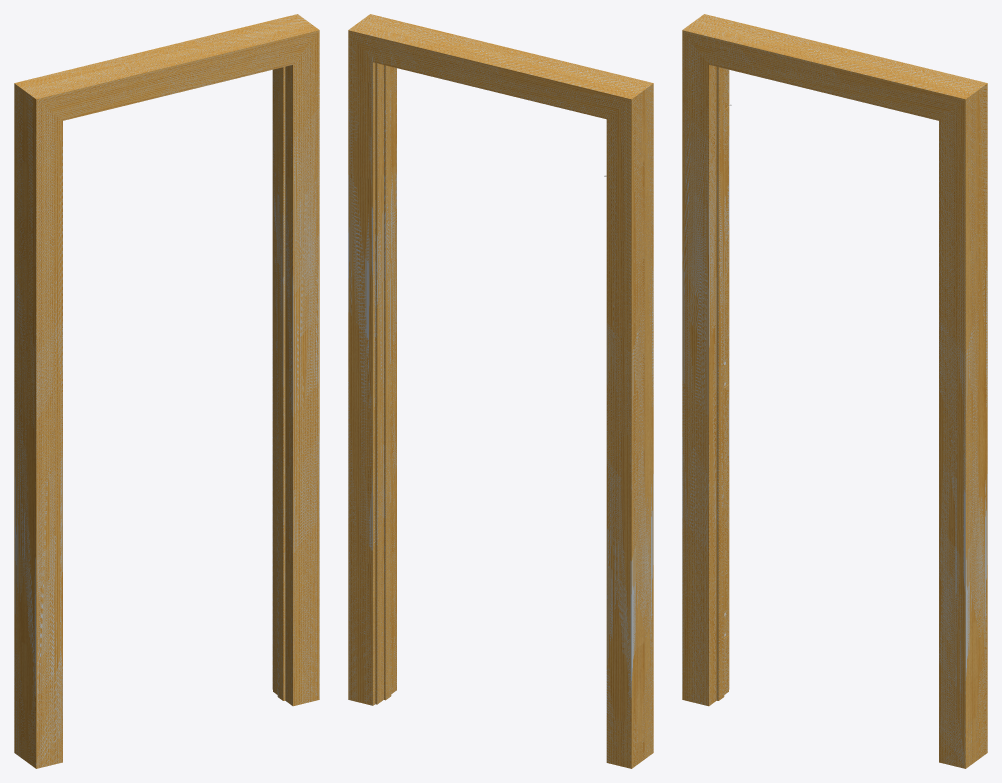
File: frame.dae
3 renders of one model, left to right at view 1: azimuth 30°, elevation 25°; view 2: azimuth 150°, elevation 25°; view 3: azimuth 330°, elevation 25°, orthographic.
Parts seen in each view (by area): view 1: group_12.002; view 2: group_12.002; view 3: group_12.002.
Part boxes in pixels (x1=…): group_12.002: x1=14, y1=14, x2=319, y2=768; group_12.002: x1=348, y1=14, x2=653, y2=768; group_12.002: x1=682, y1=14, x2=987, y2=768.
Bounding box in the file's own units: 0.9398 × 0.127 × 2.12.
3 materials, 1 textured.
